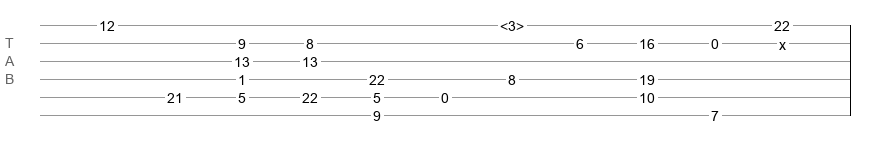0: (441, 90, 449, 100), (711, 36, 719, 46)
1: (238, 72, 246, 82)
10: (639, 90, 655, 100)
12: (99, 18, 115, 28)
13: (234, 54, 250, 64), (302, 54, 318, 64)
16: (639, 36, 655, 46)
19: (639, 72, 655, 82)
21: (167, 90, 183, 100)
22: (302, 90, 318, 100), (369, 72, 385, 82), (774, 18, 790, 28)
5: (238, 90, 246, 100), (373, 90, 381, 100)
6: (576, 36, 584, 46)
7: (711, 108, 719, 118)
8: (306, 36, 314, 46), (508, 72, 516, 82)
9: (238, 36, 246, 46), (373, 108, 381, 118)
harmonic: (500, 18, 524, 28)
x: (779, 37, 786, 45)
